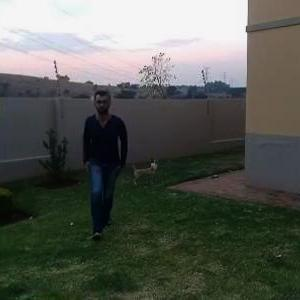follow: (83, 83, 131, 231)
